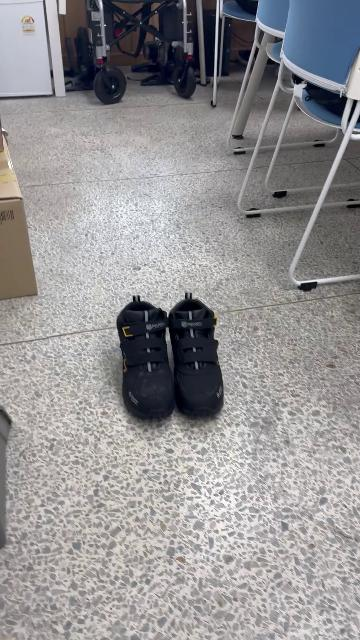shoe_worn: (169, 314, 228, 422)
